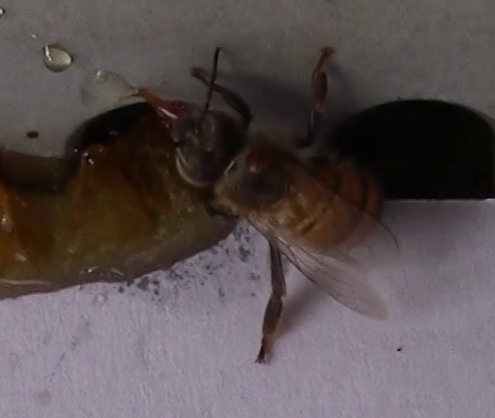Varroa destructor: (242, 144, 275, 175)
